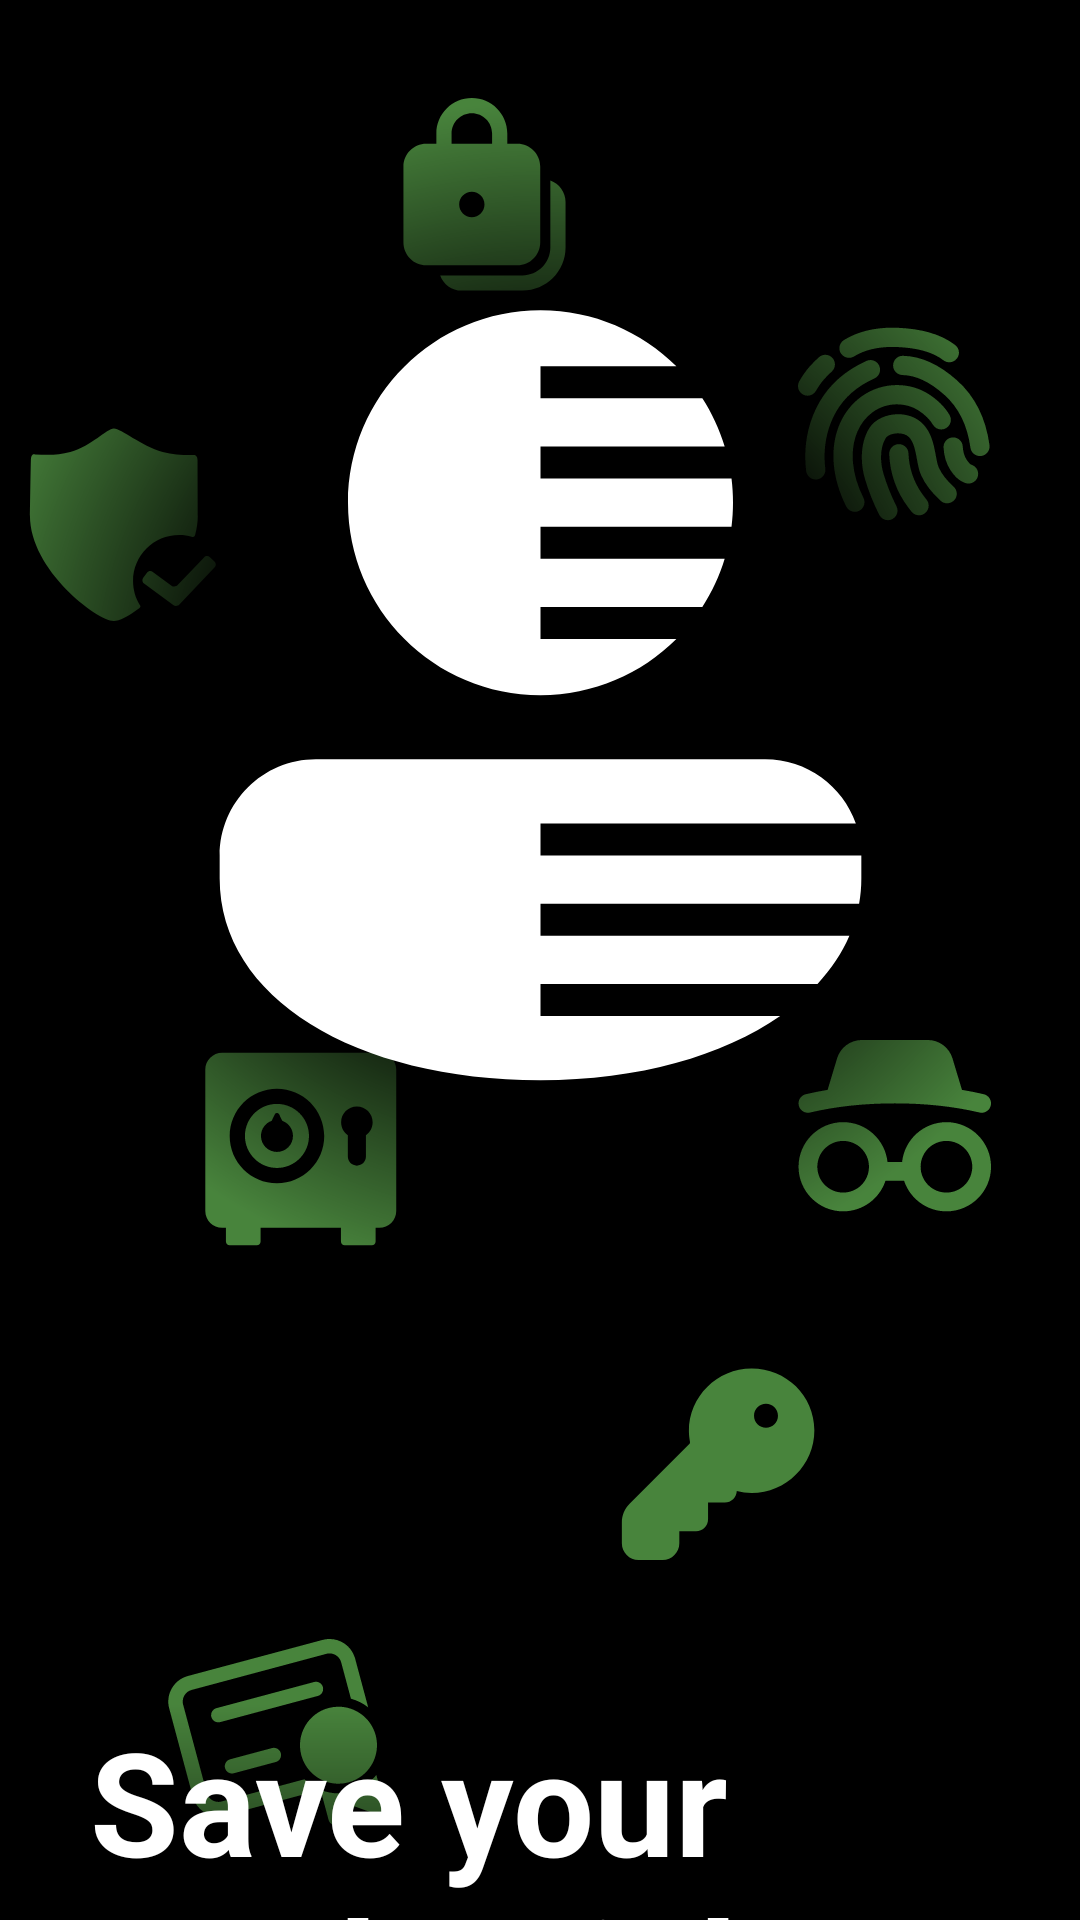

Icon bounding boxes for this 1080x1920 phone screenshot, format {"left": x1, "top": y1, "right": x2, "bottom": y2}:
fingerprint holder vct: {"left": 798, "top": 328, "right": 990, "bottom": 520}
incognito holder vct: {"left": 798, "top": 1040, "right": 991, "bottom": 1212}
key holder vct: {"left": 622, "top": 1368, "right": 815, "bottom": 1560}
lock holder vct: {"left": 403, "top": 98, "right": 566, "bottom": 291}
safe holder vct: {"left": 205, "top": 1051, "right": 399, "bottom": 1246}
sheild holder vct: {"left": 30, "top": 428, "right": 215, "bottom": 621}
